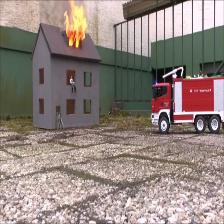fire: (62, 1, 88, 47)
